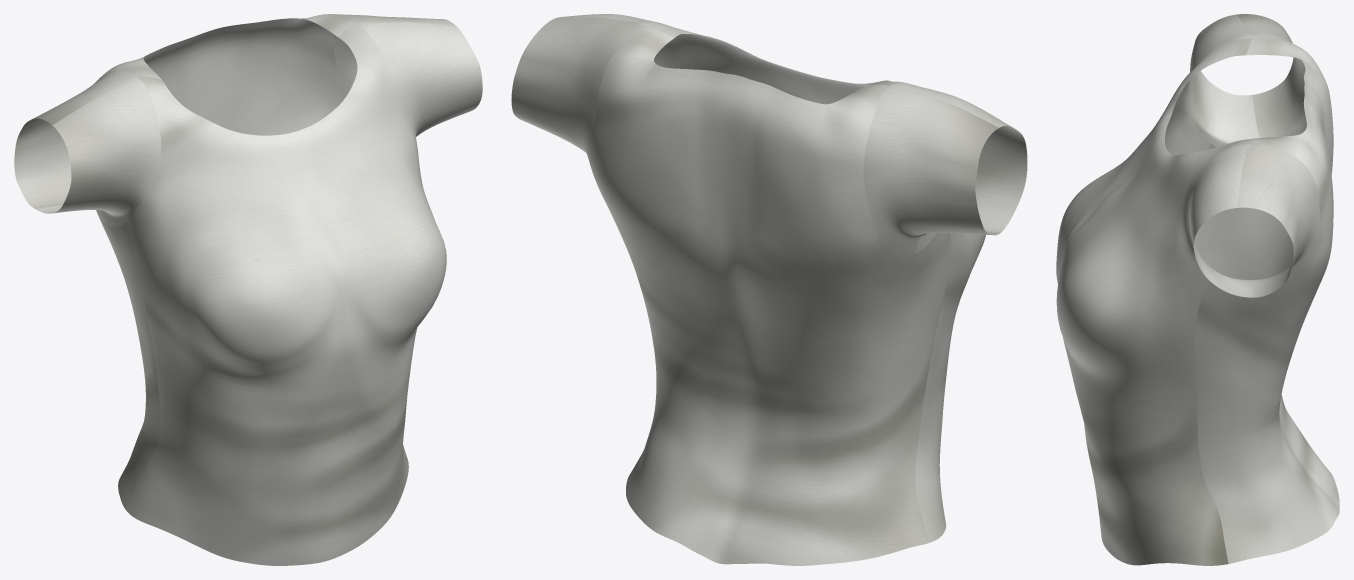
The model's file is Huku01.fbx.
3 views of the same model, side by side, from view 1: azimuth 30°, elevation 25°; view 2: azimuth 150°, elevation 25°; view 3: azimuth 270°, elevation 25° (orthographic). The views are drawn at different scales.
Visible parts, largest first — view 1: Huku01; view 2: Huku01; view 3: Huku01.
Part boxes in pixels (<box>): Huku01: <box>14,14,482,565</box>; Huku01: <box>511,14,1027,565</box>; Huku01: <box>1056,14,1339,565</box>.
Bounding box in the file's own units: 43.05 × 44.18 × 25.28.
1 material, 1 textured.
